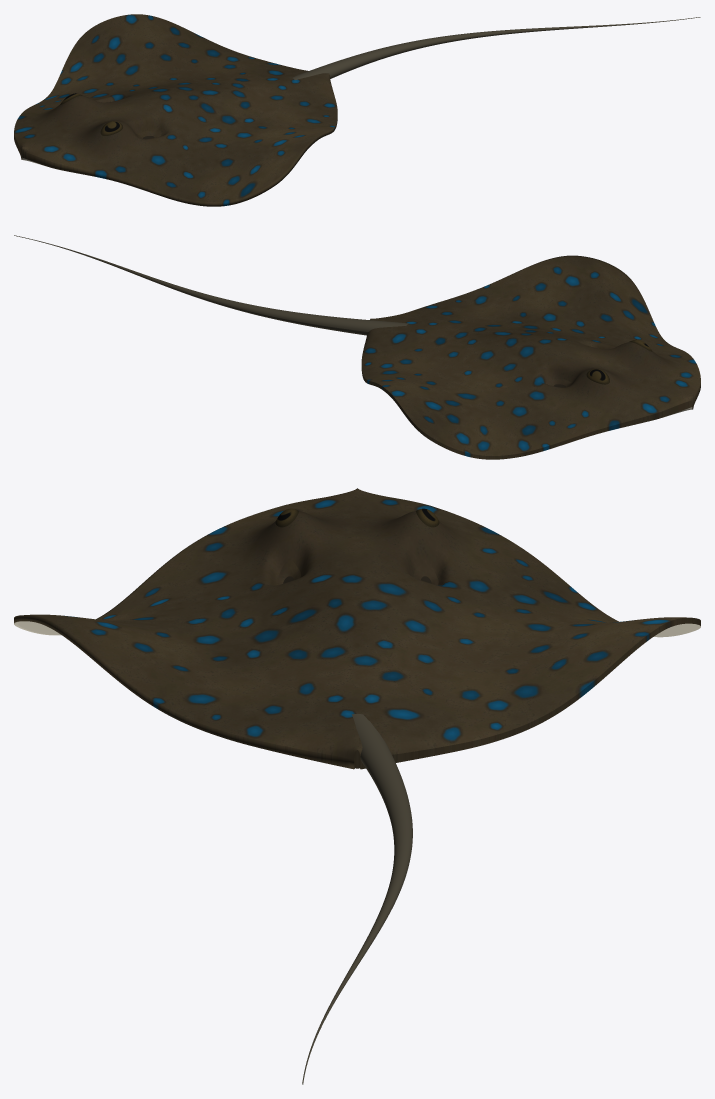
The picture shows the model from 3 angles, top to bottom: view 1: azimuth 30°, elevation 25°; view 2: azimuth 150°, elevation 25°; view 3: azimuth 270°, elevation 25°; orthographic projection. The views are drawn at different scales.
Visible parts, largest first — view 1: Maskray_ContinuousDisc, Maskray_TaperedWhipTail; view 2: Maskray_ContinuousDisc, Maskray_TaperedWhipTail; view 3: Maskray_ContinuousDisc, Maskray_TaperedWhipTail.
Part boxes in pixels (x1,y1,x2,y2): Maskray_ContinuousDisc: (14, 14, 337, 206); Maskray_TaperedWhipTail: (292, 17, 700, 80); Maskray_ContinuousDisc: (361, 255, 700, 459); Maskray_TaperedWhipTail: (14, 235, 409, 335); Maskray_ContinuousDisc: (14, 488, 700, 769); Maskray_TaperedWhipTail: (302, 714, 412, 1084).
Size of the model in its own units: 4.83 by 0.3605 by 2.49.
Materials: 5 (2 with a texture image).
